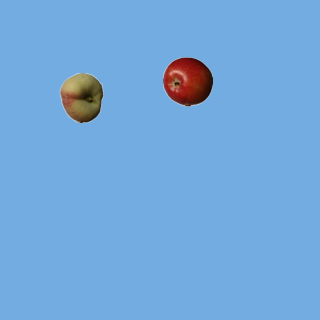Apple Braeburn: (162, 56, 212, 106)
Peach Flat: (56, 72, 106, 122)
